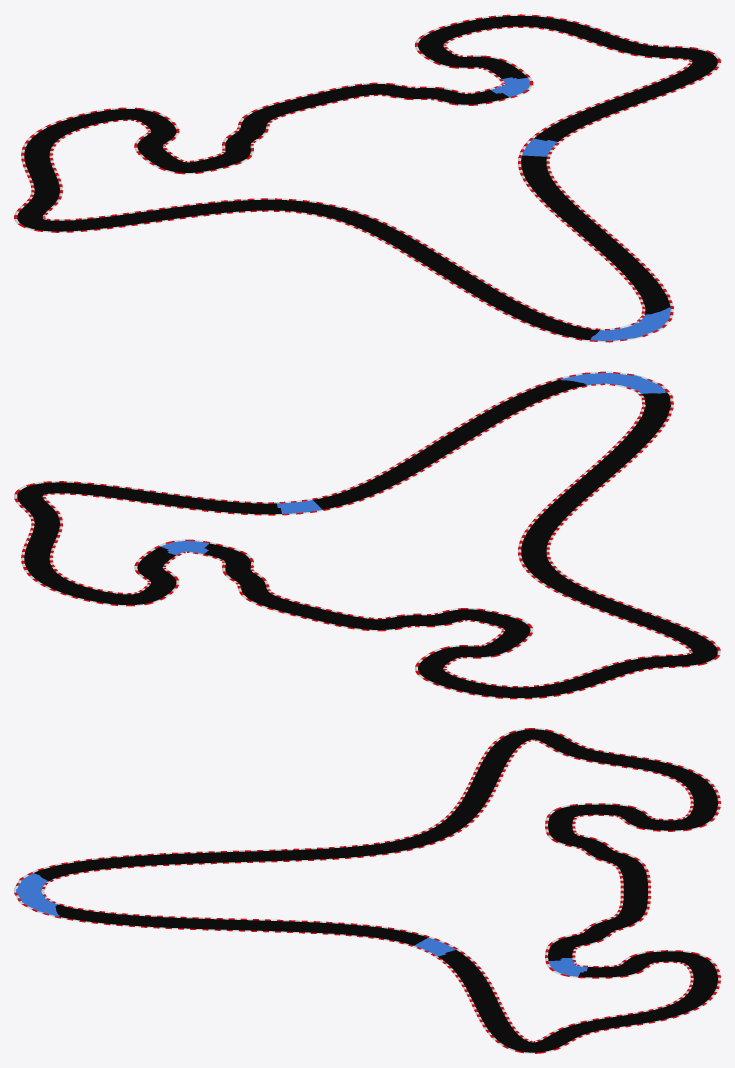
File: LOSTAKIZLASU.fbx
3 renders of one model, top to bottom at view 1: azimuth 30°, elevation 25°; view 2: azimuth 150°, elevation 25°; view 3: azimuth 270°, elevation 25°, orthographic. The views are drawn at different scales.
Visible parts, largest first — view 1: Plane; view 2: Plane; view 3: Plane.
Boxes of the visible parts, x1,y1,x2,y2 form: Plane: (14,14,720,342); Plane: (14,371,720,699); Plane: (14,728,720,1053).
Size of the model in its own units: 50849 by 20 by 46611.
